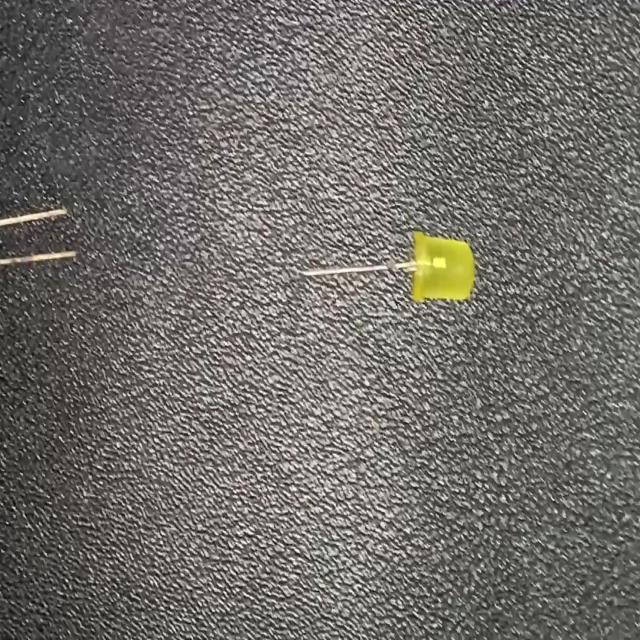missing-leg: (297, 227, 480, 307)
